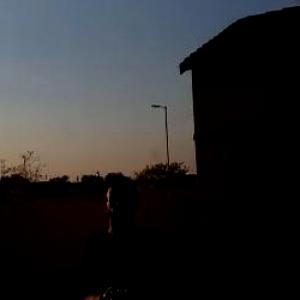follow: (71, 170, 179, 299)
